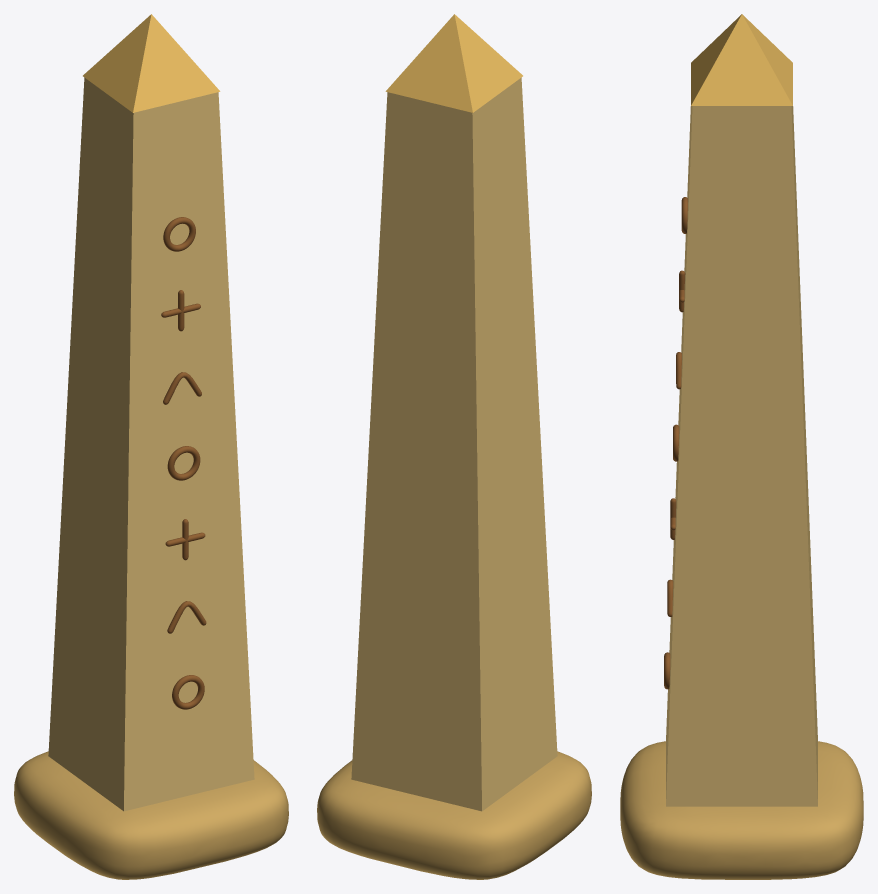
The model's file is deco_obelisco.glb.
3 renders of one model, left to right at view 1: azimuth 30°, elevation 25°; view 2: azimuth 150°, elevation 25°; view 3: azimuth 270°, elevation 25°, orthographic.
Parts seen in each view (by area): view 1: obelisco.001, basa obelisco.001, piramidión.001, glifo 3.001, glifo 0.001, glifo 6.001; view 2: obelisco.001, basa obelisco.001, piramidión.001; view 3: obelisco.001, basa obelisco.001, piramidión.001.
Boxes of the visible parts, x1,y1,x2,y2 form: obelisco.001: (48, 77, 254, 811); basa obelisco.001: (14, 751, 288, 879); piramidión.001: (83, 14, 220, 112); glifo 3.001: (167, 446, 200, 480); glifo 0.001: (172, 675, 204, 709); glifo 6.001: (163, 217, 195, 251); obelisco.001: (351, 77, 557, 811); basa obelisco.001: (317, 751, 591, 879); piramidión.001: (385, 14, 522, 112); obelisco.001: (666, 106, 817, 806); basa obelisco.001: (620, 741, 863, 879); piramidión.001: (691, 14, 792, 105).
Size of the model in its own units: 0.3197 by 1.2 by 0.3197.
